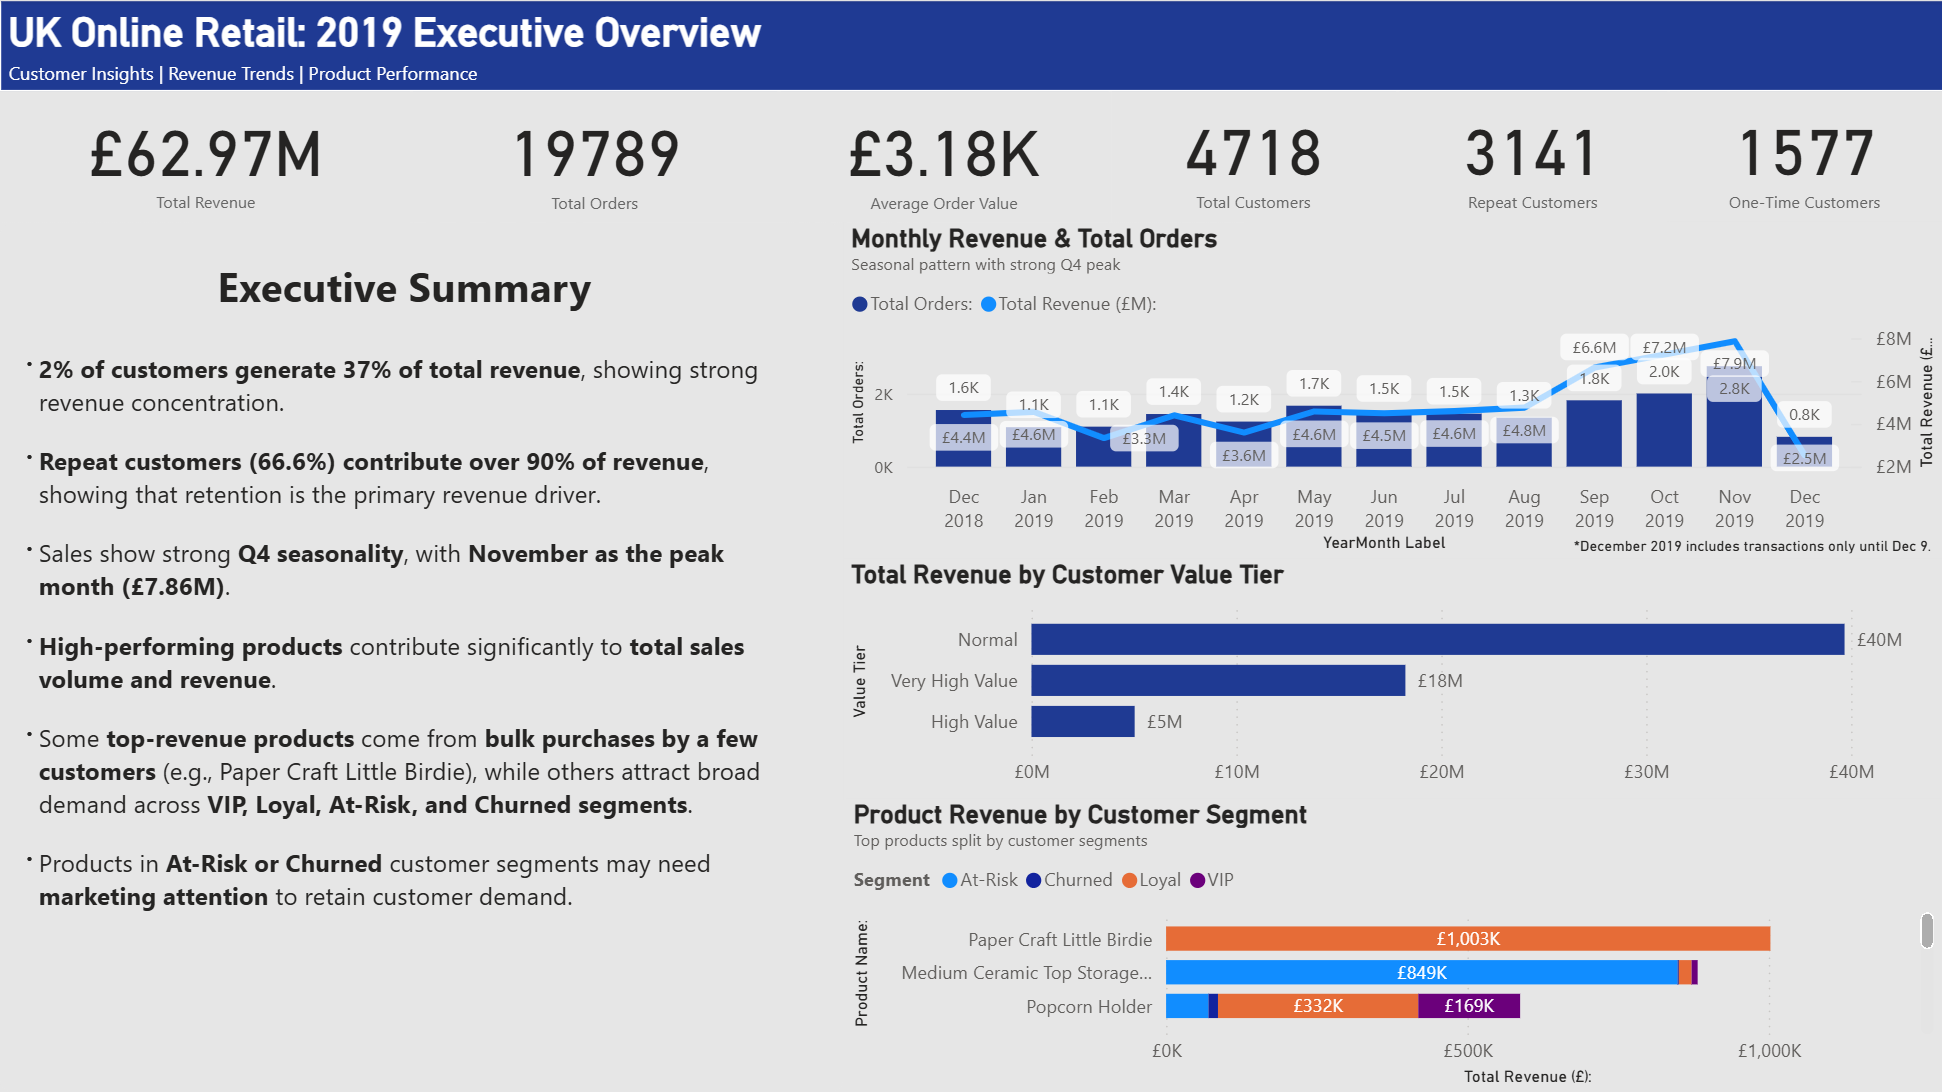

Layout of this report page (visuals, bound fields, positions):
{"tool":"powerbi","page":{"name":"Main_Dashboard","canvas":[1280,720],"ordinal":0},"visuals":[{"type":"textbox","title":"UK Online Retail: 2019 Executive Overview","box":[0,0,1280,60],"z":0},{"type":"card","fields":{"Values":["measure_table.Total Revenue"]},"box":[0,60.1,271.6,86.4],"z":1000},{"type":"card","fields":{"Values":["measure_table.Total Customers"]},"box":[730.1,60.1,190.9,86],"z":2000},{"type":"card","fields":{"Values":["measure_table.Average Order Value"]},"box":[512,60,219.8,86.6],"z":3000},{"type":"card","fields":{"Values":["measure_table.Total Orders"]},"box":[269.9,60,243.8,86.6],"z":4000},{"type":"card","fields":{"Values":["measure_table.Repeat Customers"]},"box":[919.4,60.1,180.2,86],"z":5000},{"type":"card","fields":{"Values":["measure_table.One-Time Customers"]},"box":[1097.9,60.1,181.1,85.6],"z":6000},{"type":"lineClusteredColumnComboChart","title":"Monthly Revenue & Total Orders","fields":{"Y":["measure_table.Total Orders"],"Y2":["measure_table.Total Revenue"],"Category":["date_table.YearMonth Label"]},"box":[555.5,146.5,724.7,221.1],"z":7000},{"type":"shape","box":[0,147.3,555,572.2],"z":8000},{"type":"textbox","title":"Key Business Insights","box":[126.7,165.4,279,46.1],"z":9000},{"type":"clusteredBarChart","title":"Total Revenue by Customer Value Tier","fields":{"Y":["measure_table.Total Revenue"],"Category":["customer_metrics_rfm.Value_Tier"]},"box":[555.5,367.7,724.7,158.5],"z":10000},{"type":"barChart","title":"Product Revenue by Customer Segment","fields":{"Series":["customer_metrics_rfm.Segment"],"Category":["online_retail_uk_cleaned.ProductName"],"Y":["measure_table.Total Revenue"]},"box":[557.2,525.9,721,193.4],"z":11000},{"type":"textbox","title":"*December 2019 includes transactions only until Dec 9.","box":[1031.7,353.6,247,12.9],"z":12000},{"type":"textbox","box":[2.5,226.3,529.2,491.4],"z":13000}]}

Visuals, with their boxes in screenshot pixels (x1, y1, x2, y2), scaled from the page's 1280x720 canvas onto the 1942x1092 screenshot:
"UK Online Retail: 2019 Executive Overview" textbox: 0,0,1941,91
card - measure_table.Total Revenue: 0,91,412,222
card - measure_table.Total Customers: 1108,91,1397,222
card - measure_table.Average Order Value: 777,91,1110,222
card - measure_table.Total Orders: 409,91,779,222
card - measure_table.Repeat Customers: 1395,91,1668,222
card - measure_table.One-Time Customers: 1666,91,1940,221
"Monthly Revenue & Total Orders" lineClusteredColumnComboChart: 843,222,1941,558
shape: 0,223,842,1091
"Key Business Insights" textbox: 192,251,616,321
"Total Revenue by Customer Value Tier" clusteredBarChart: 843,558,1941,798
"Product Revenue by Customer Segment" barChart: 845,798,1939,1091
"*December 2019 includes transactions only until Dec 9." textbox: 1565,536,1940,556
textbox: 4,343,807,1089
